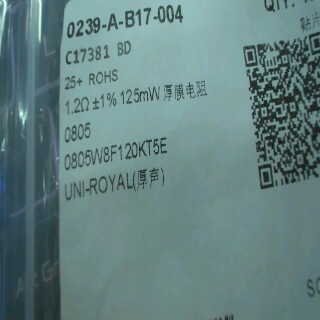1.2R: (63, 98, 95, 142)
